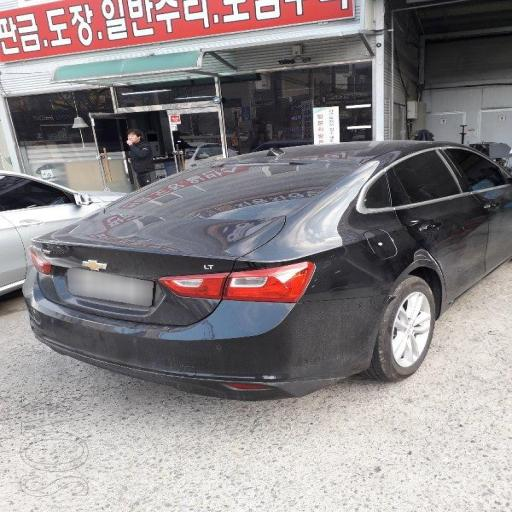scratch: (9, 193, 282, 388)
